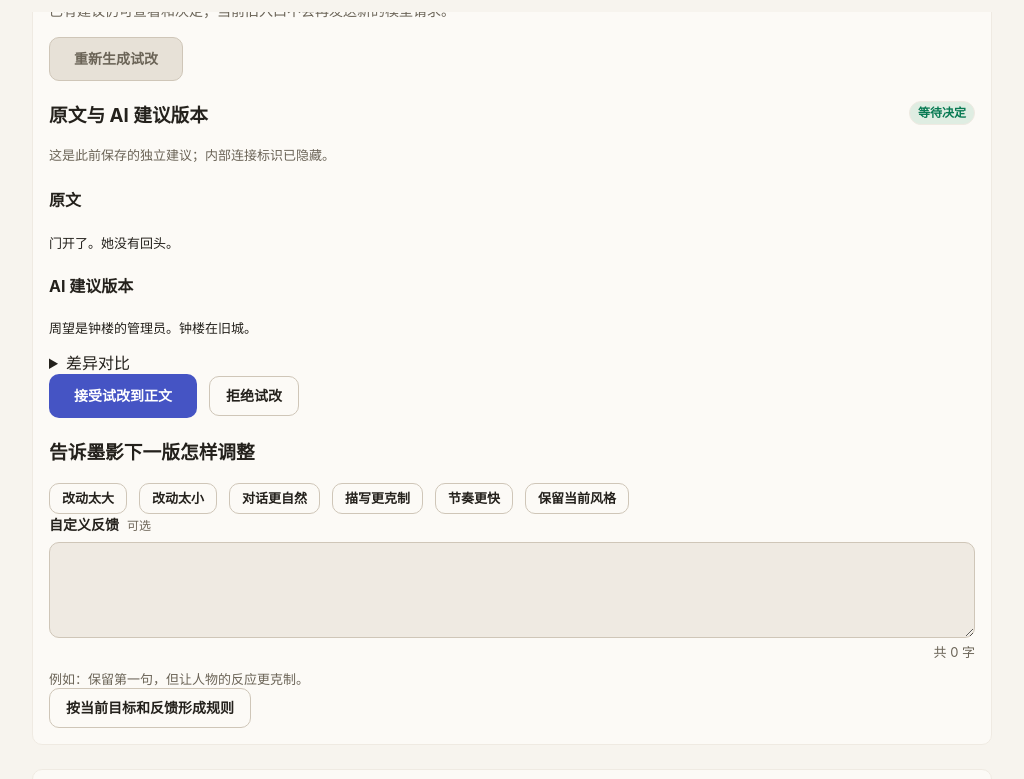
Test: ImportJourneyPage safe Provider boundary › still organizes the accepted direct-mode version when background task registration fails
(page scrolled)
Expected: the element named "代表段落试改结果" shows "周望是钟楼的管理员。钟楼在旧城。", [49, 321, 257, 336]
Click the button "接受试改到正文": (123, 396) [49, 374, 197, 418]
(page scrolled)
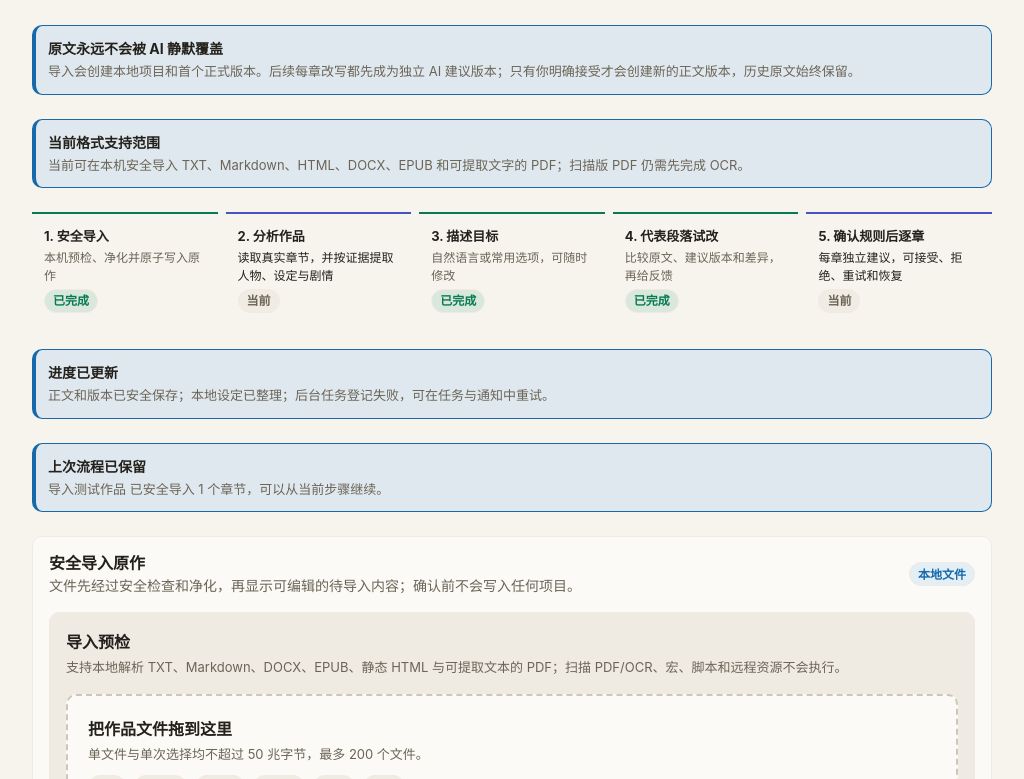
Expected: the text "正文和版本已安全保存；本地设定已整理；后台任务登记失败，可在任务与通知中重试。" is shown, [48, 387, 555, 403]
